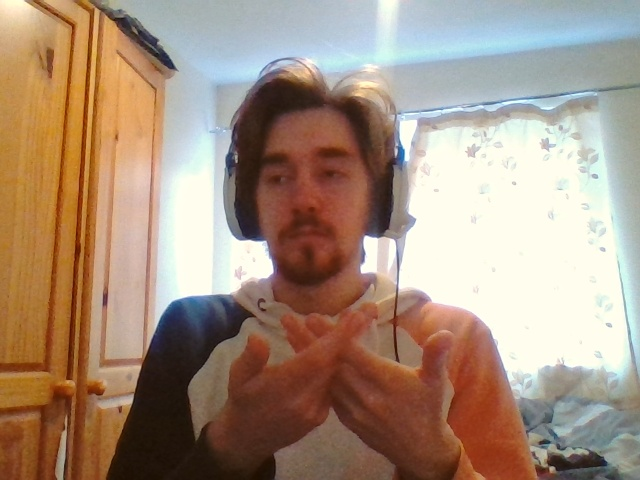how: (223, 304, 454, 446)
